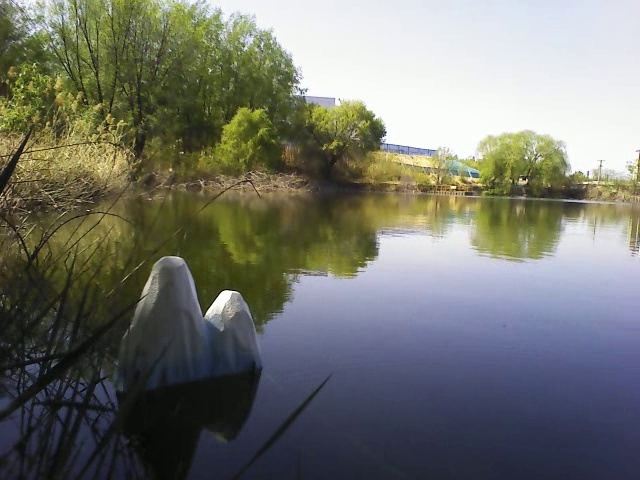iceberg: (115, 252, 269, 393)
